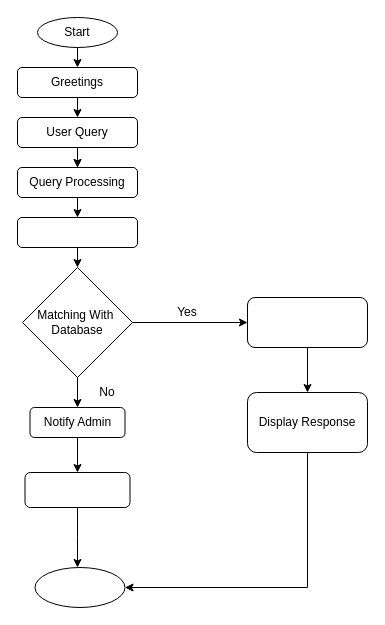
Image size: 385x625. Some labels were removed from this diagram. The shapes that lost their labels are listed below. From the top down, each one's box as (x1, y1, x2, y2) in pixels, then its label:
(16, 216, 138, 248): Query Comparing
(246, 296, 368, 348): Give suitable response
(24, 472, 130, 508): Give list of topics
(34, 566, 125, 608): Stop
